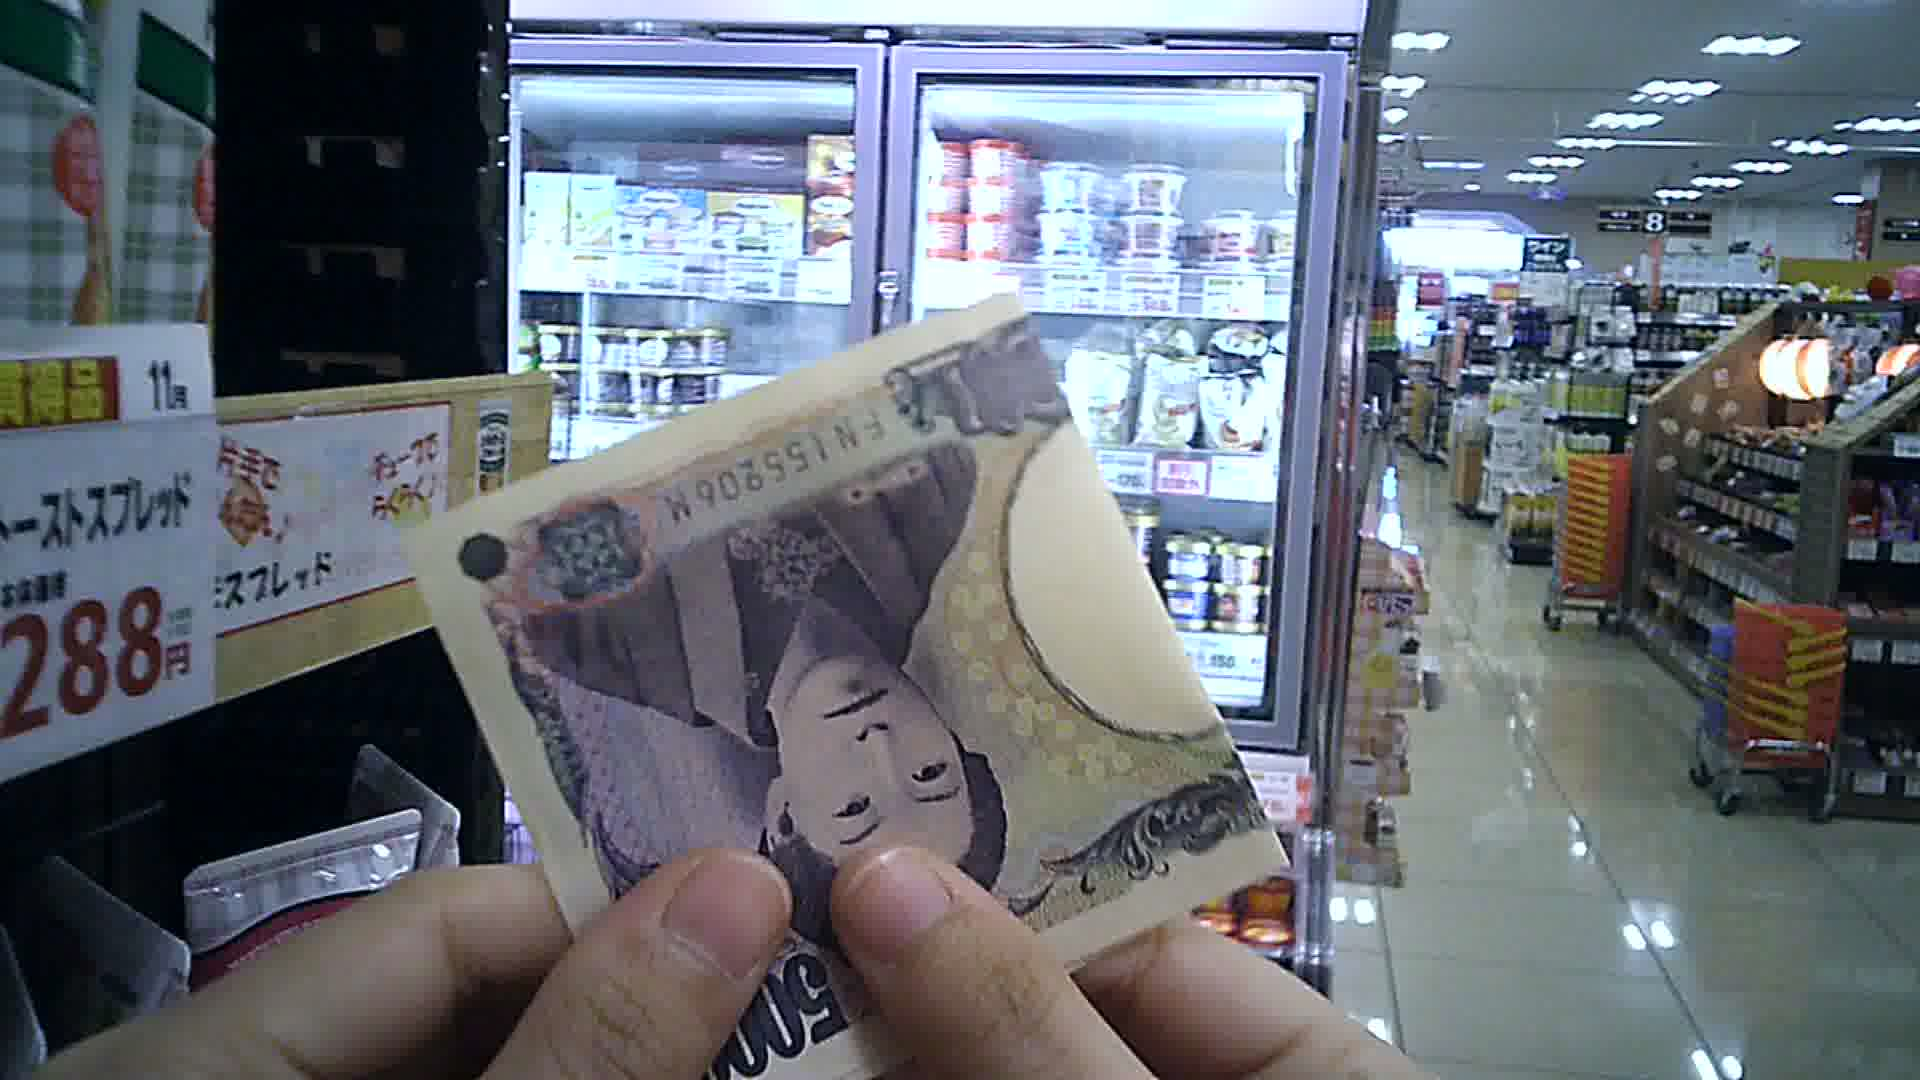5,000 Yen: (405, 293, 1320, 1073)
